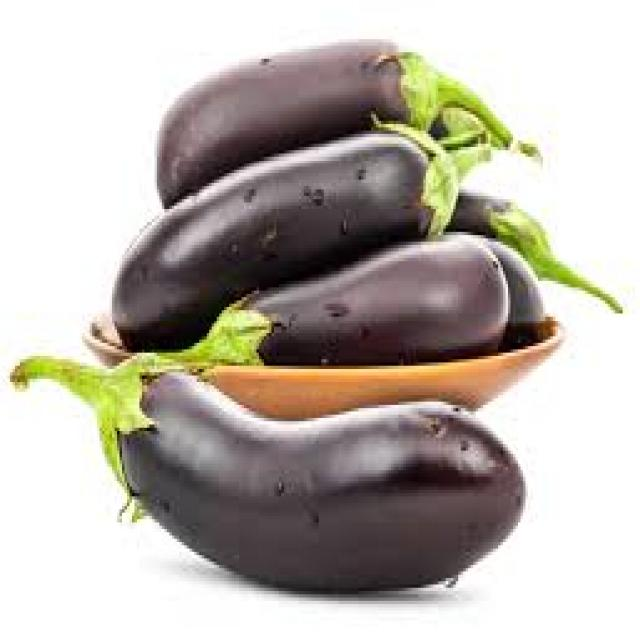Eggplant: (10, 353, 530, 596), (112, 122, 490, 351), (157, 42, 515, 207)
